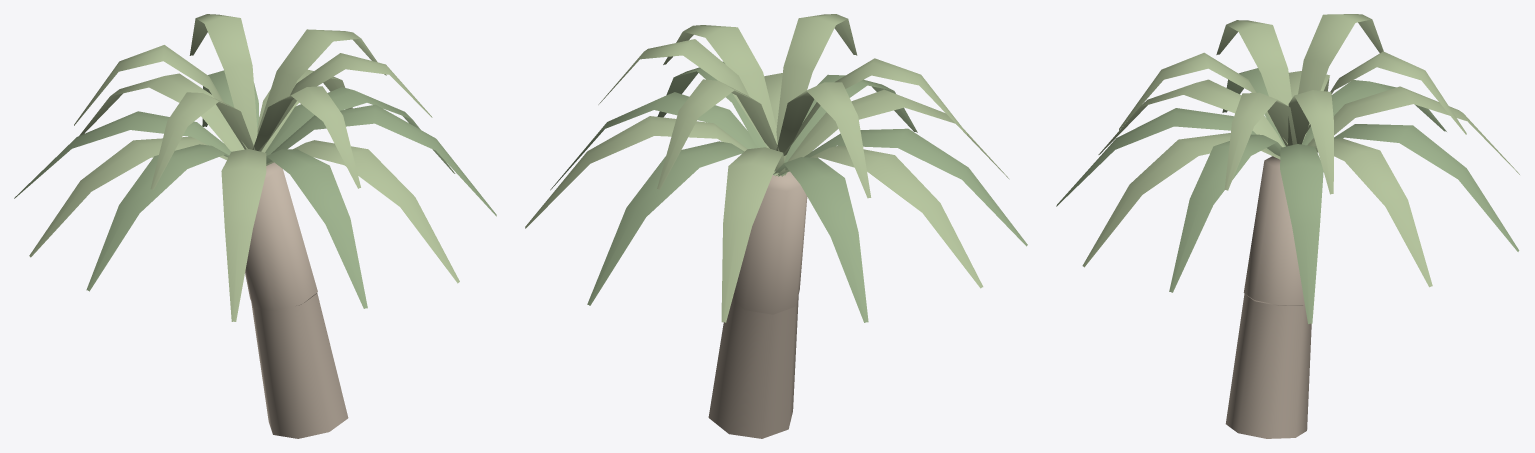
File: small_palm_5.glb
3 renders of one model, left to right at view 1: azimuth 30°, elevation 25°; view 2: azimuth 150°, elevation 25°; view 3: azimuth 270°, elevation 25°, orthographic. The views are drawn at different scales.
Parts seen in each view (by area): view 1: small_palm_5.glb; view 2: small_palm_5.glb; view 3: small_palm_5.glb.
Boxes of the visible parts, box(x1,y1,x2,y2) form: small_palm_5.glb: box(14, 14, 496, 438); small_palm_5.glb: box(525, 14, 1027, 438); small_palm_5.glb: box(1056, 14, 1519, 438).
Bounding box in the file's own units: 2.66 × 2.28 × 2.61.
